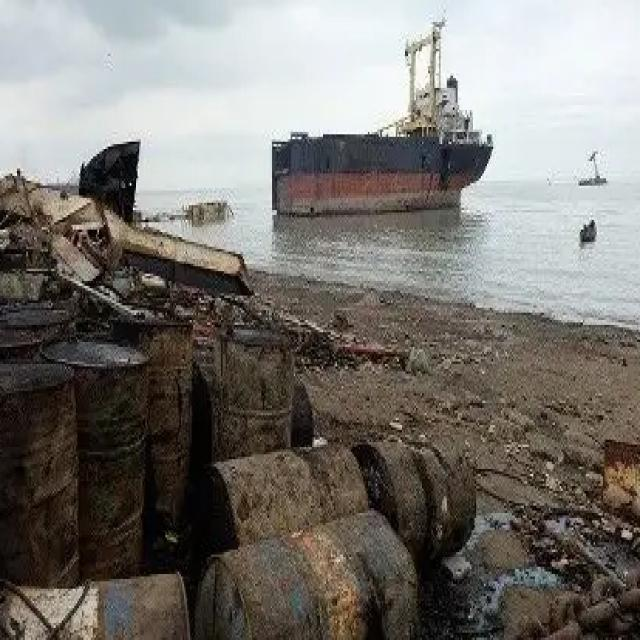cargoship: (266, 42, 489, 232)
